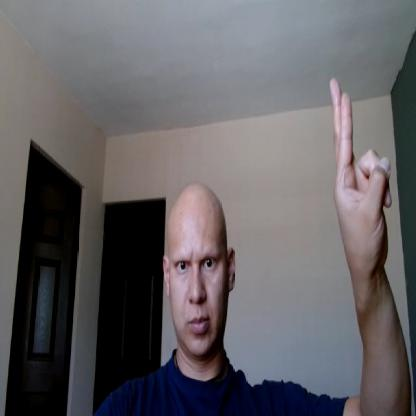R: (329, 76, 393, 276)
